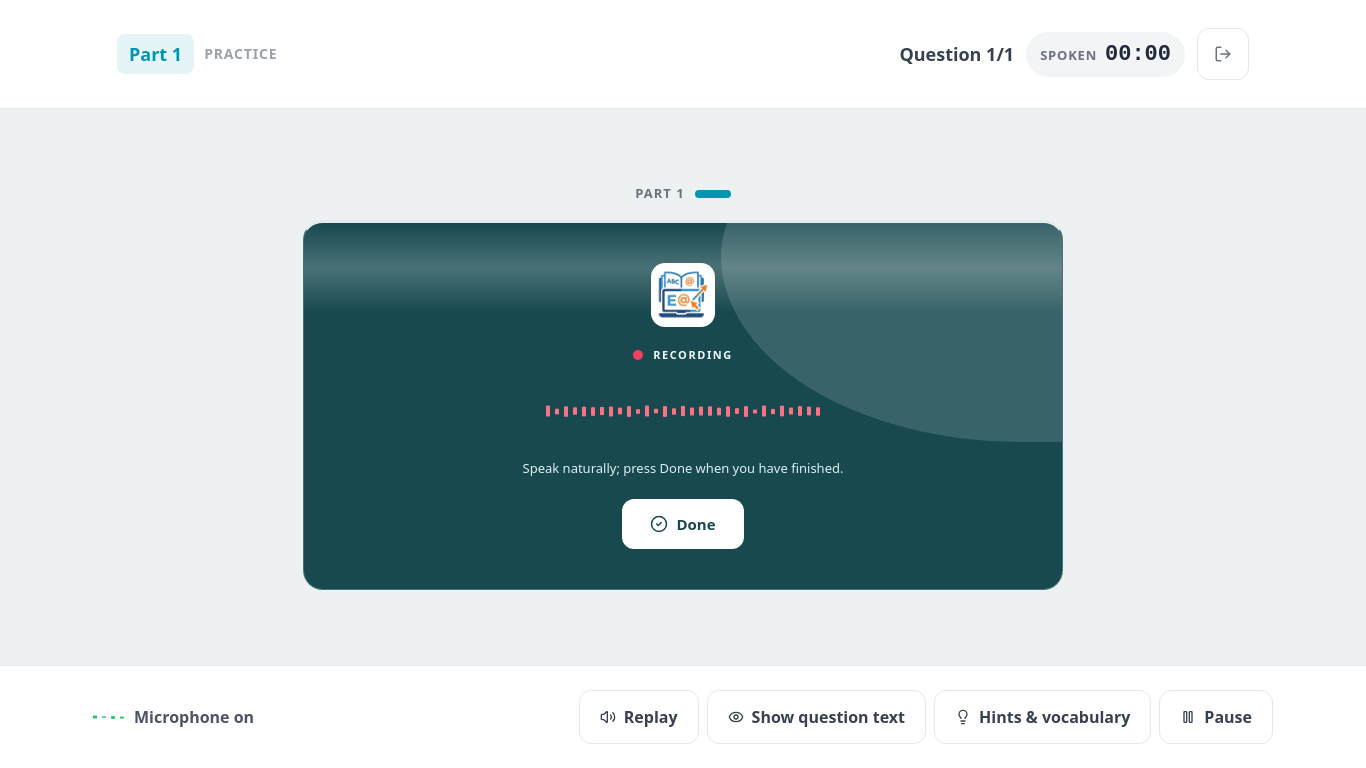
it: the question text only shows after pressing the eye button, and hides on a second press
The image size is (1366, 768).
Check: the text "RECORDING" is shown, box [653, 346, 733, 363]
Check: the text "Do you work or are you a student?" is not shown
Click the button "Show question text".
click(816, 717)  # box [707, 690, 926, 744]
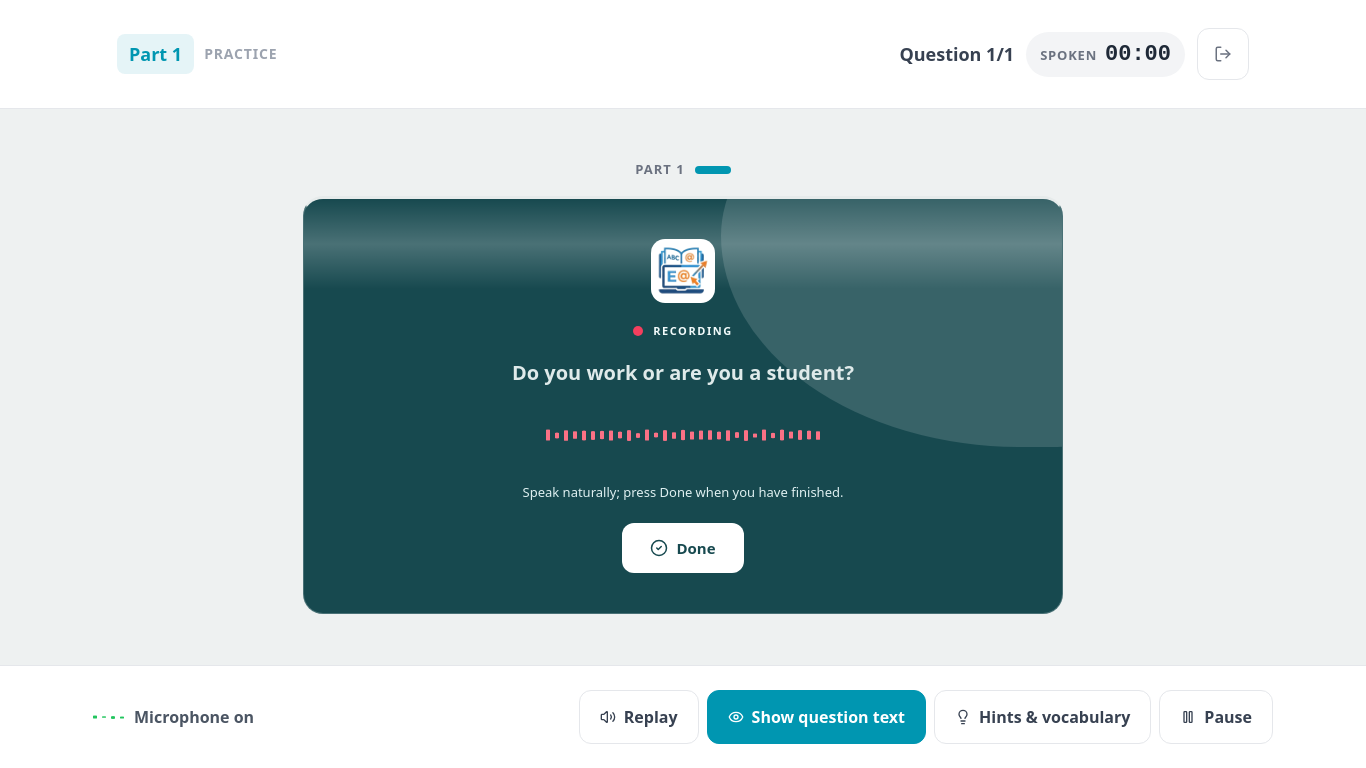
Check: the text "Do you work or are you a student?" is shown, box [512, 359, 854, 387]
Click the button "Show question text".
click(816, 717)  # box [707, 690, 926, 744]
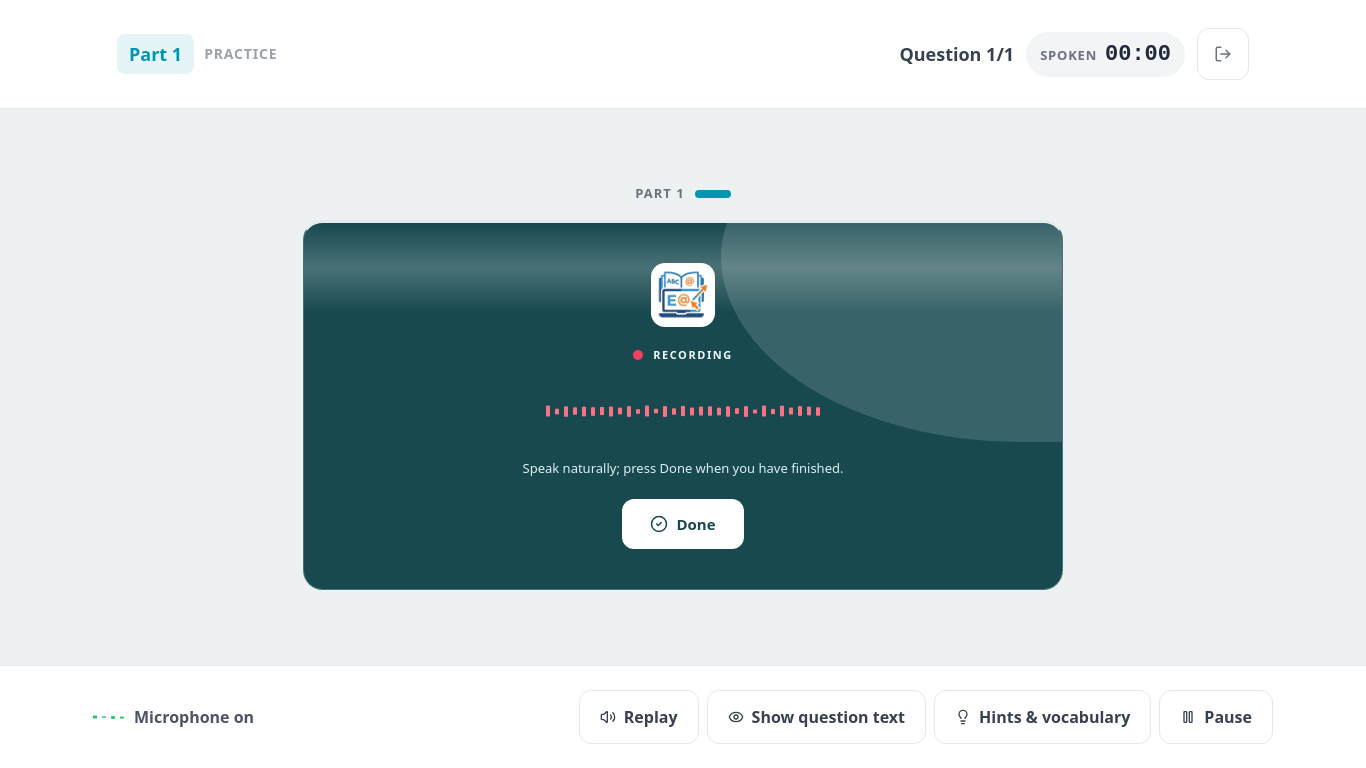
Check: the text "Do you work or are you a student?" is gone
